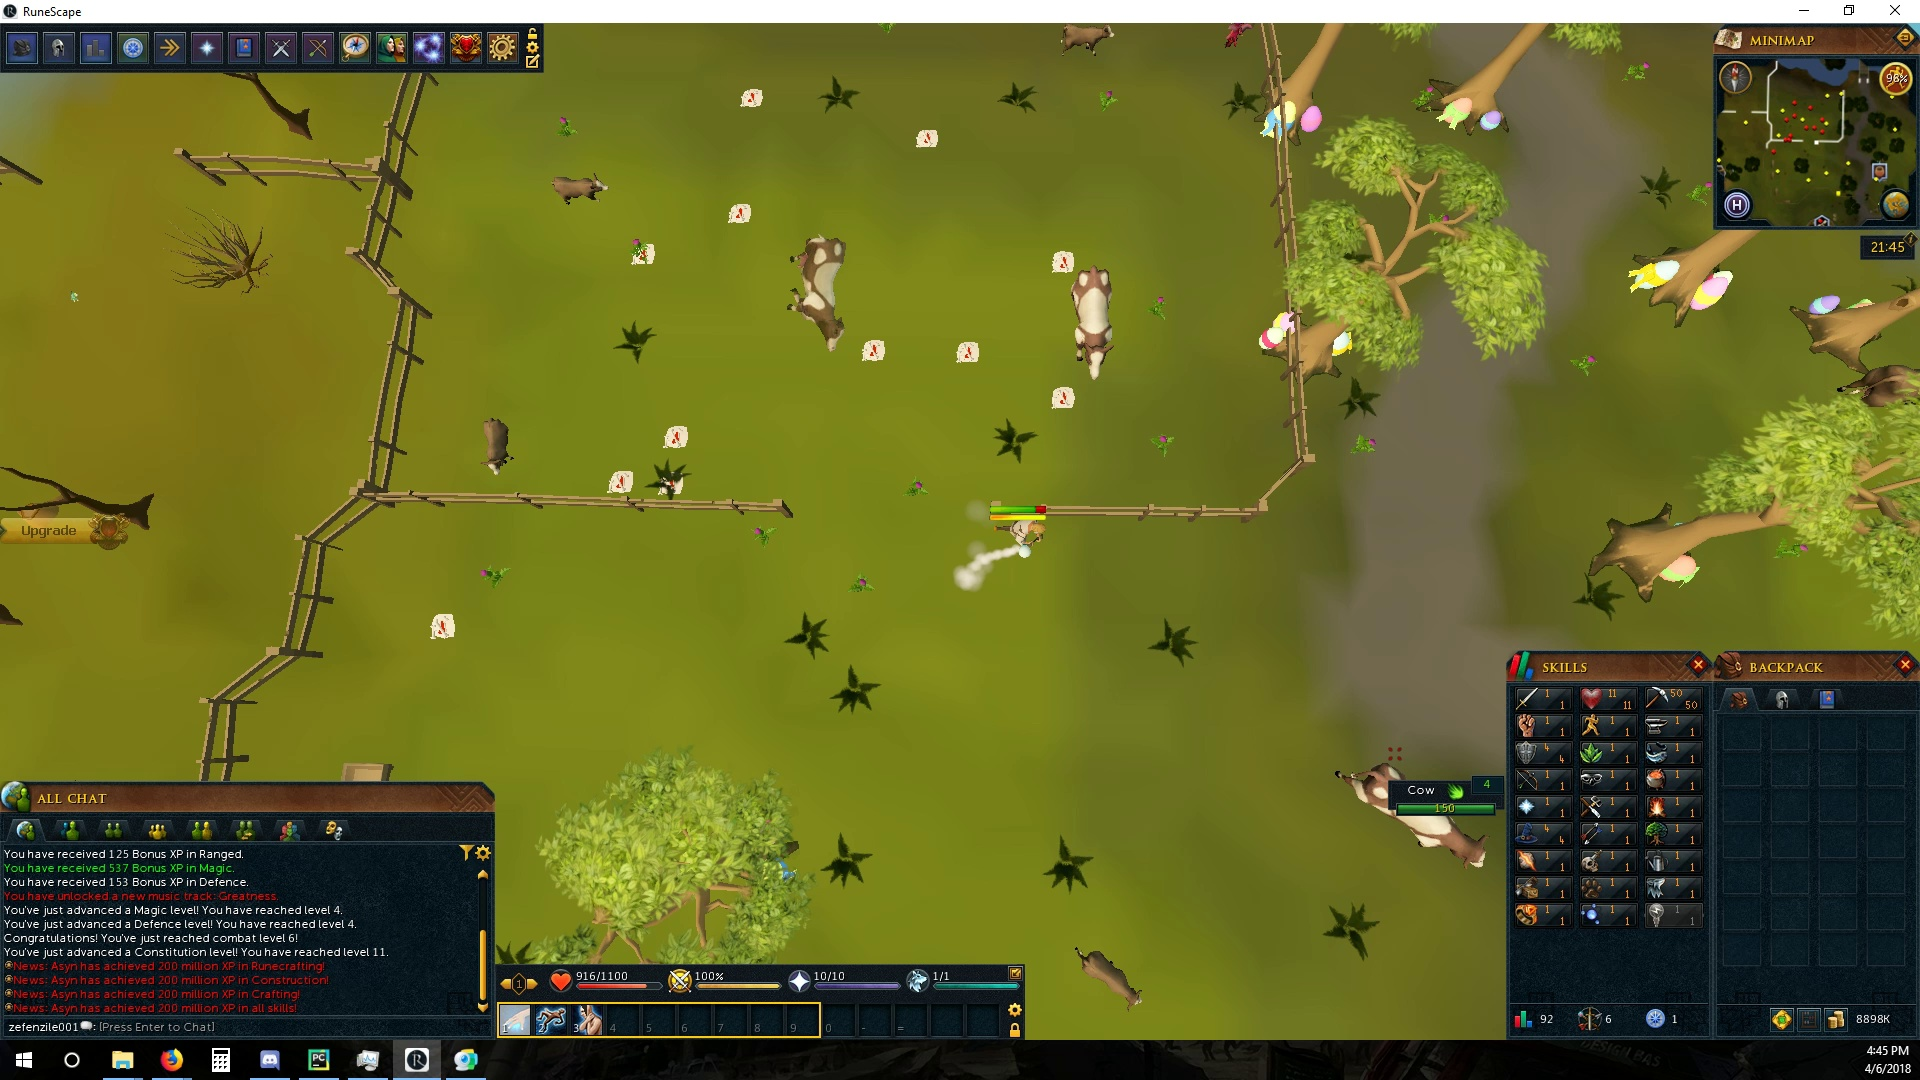calf: (1073, 947, 1149, 1015), (477, 413, 520, 481), (545, 171, 612, 210), (1052, 24, 1121, 58)
cow: (1335, 760, 1494, 873), (1063, 260, 1120, 382)
cow_drop: (423, 613, 459, 640), (601, 468, 637, 495), (650, 473, 687, 497), (661, 422, 692, 450), (1048, 248, 1080, 274), (723, 200, 756, 225), (626, 240, 655, 268), (736, 84, 766, 111), (862, 336, 889, 363), (913, 124, 940, 148), (1048, 386, 1079, 407), (953, 340, 980, 364)
